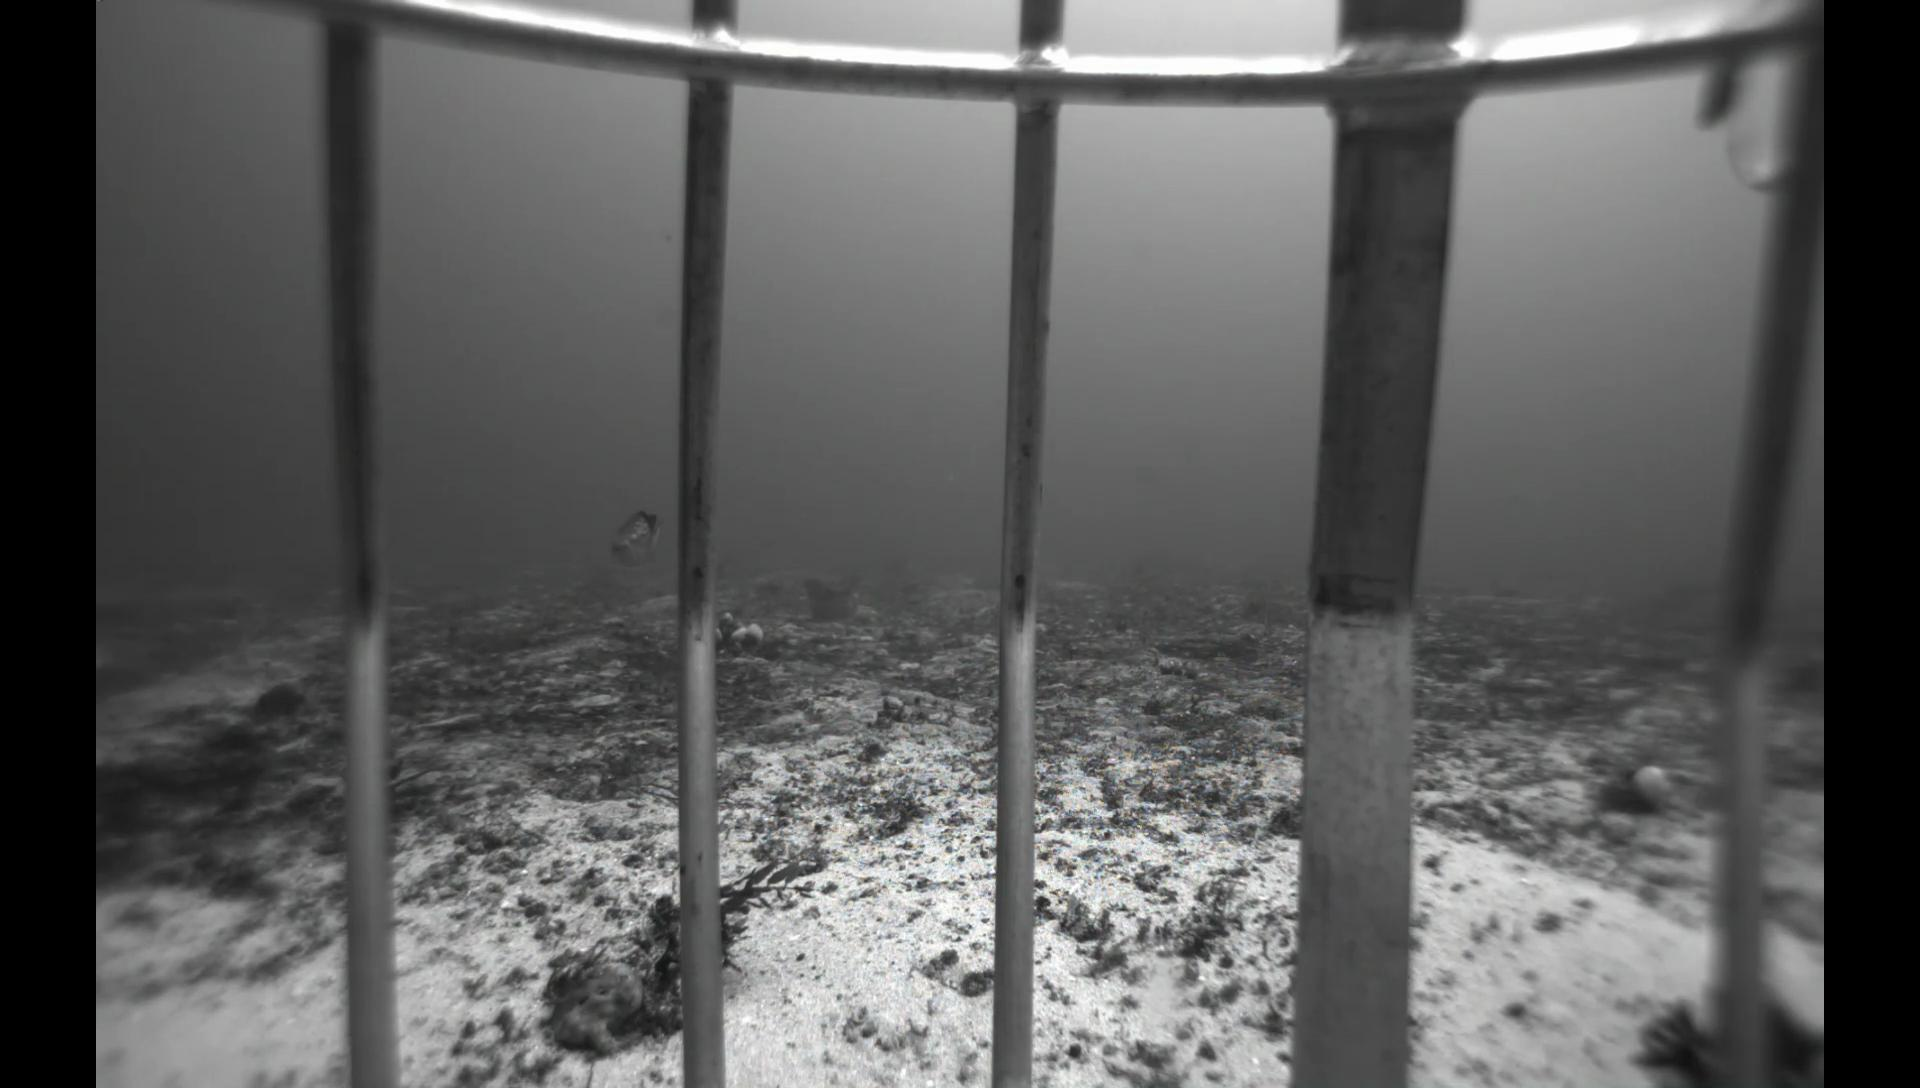EPINEPHELUSMORIO-170021211: (592, 500, 673, 583)
PRISTIGENYSALTA-170050401: (247, 673, 320, 727)
